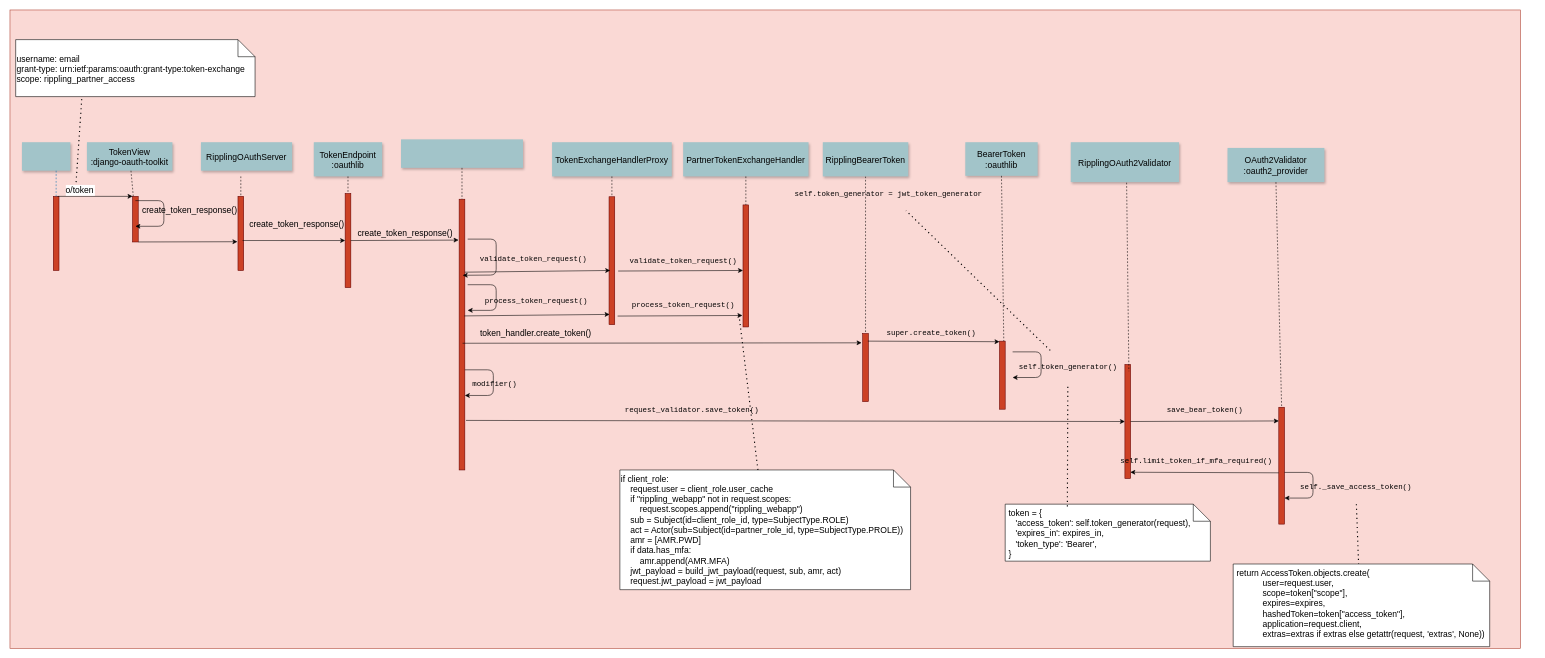
Image size: 1545x658. Some labels were removed from this diagram. Each missing label, with the centre of its shape:
"RipplingTokenExchangeGrant" goes at pixel 462 154.
"Webapp" goes at pixel 46 157.
